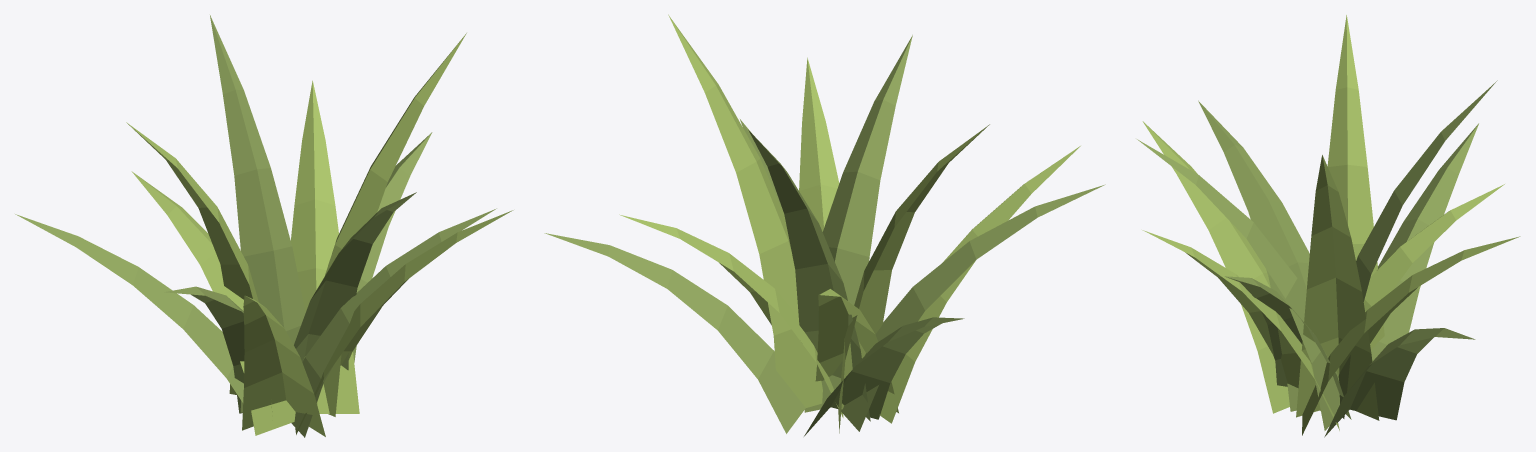
The model's file is Bush_Tall.glb.
3 views of the same model, side by side, from view 1: azimuth 30°, elevation 25°; view 2: azimuth 150°, elevation 25°; view 3: azimuth 270°, elevation 25° (orthographic). The views are drawn at different scales.
Visible parts, largest first — view 1: Bush_Tall; view 2: Bush_Tall; view 3: Bush_Tall.
Part boxes in pixels (bbox=[...]): Bush_Tall: bbox=[15, 15, 513, 437]; Bush_Tall: bbox=[544, 14, 1105, 436]; Bush_Tall: bbox=[1137, 15, 1520, 437].
Size of the model in its own units: 0.9008 by 0.7214 by 0.7384.
